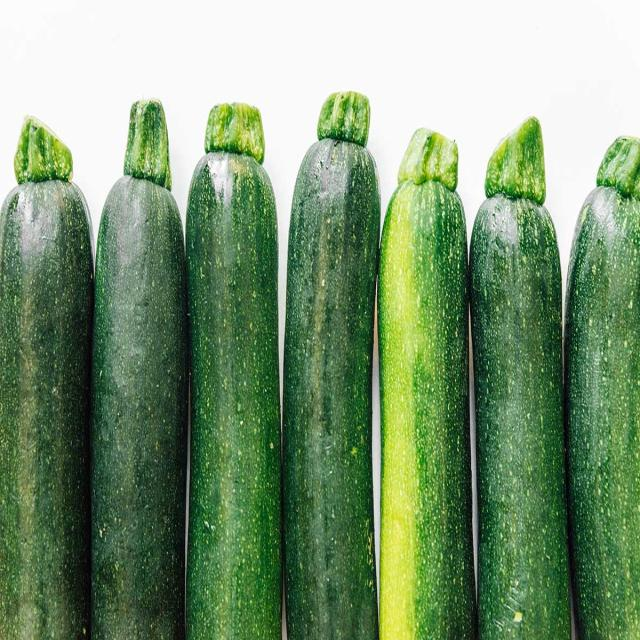Zucchini: (94, 99, 190, 640), (189, 105, 286, 640)
